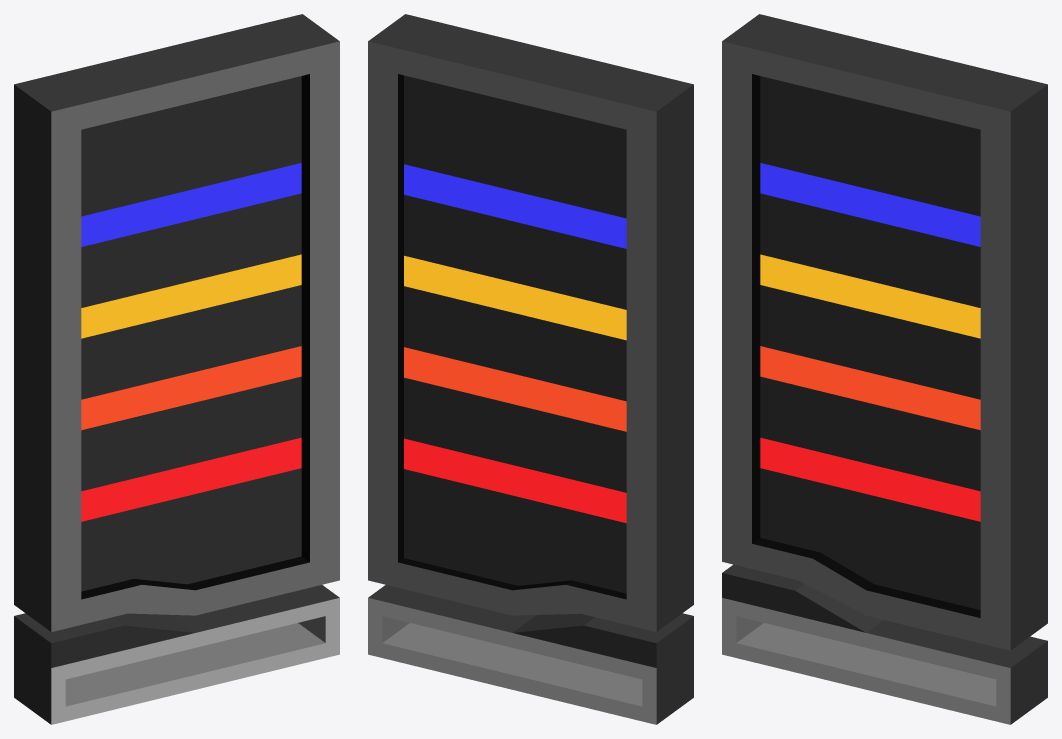
The model's file is PlacaSeccoesEsquerda_HallMuseu_PrimeiroAndar.gltf.
3 renders of one model, left to right at view 1: azimuth 30°, elevation 25°; view 2: azimuth 150°, elevation 25°; view 3: azimuth 330°, elevation 25°, orthographic.
Parts seen in each view (by area): view 1: Monitor_Menu_Tela.002; view 2: Monitor_Menu_Tela.002; view 3: Monitor_Menu_Tela.002.
Part boxes in pixels (x1,y1,x2,y2): Monitor_Menu_Tela.002: (14, 14, 339, 724); Monitor_Menu_Tela.002: (368, 14, 693, 724); Monitor_Menu_Tela.002: (722, 14, 1047, 724).
Size of the model in its own units: 0.9854 by 2 by 0.2208.
Materials: 5 (1 with a texture image).
